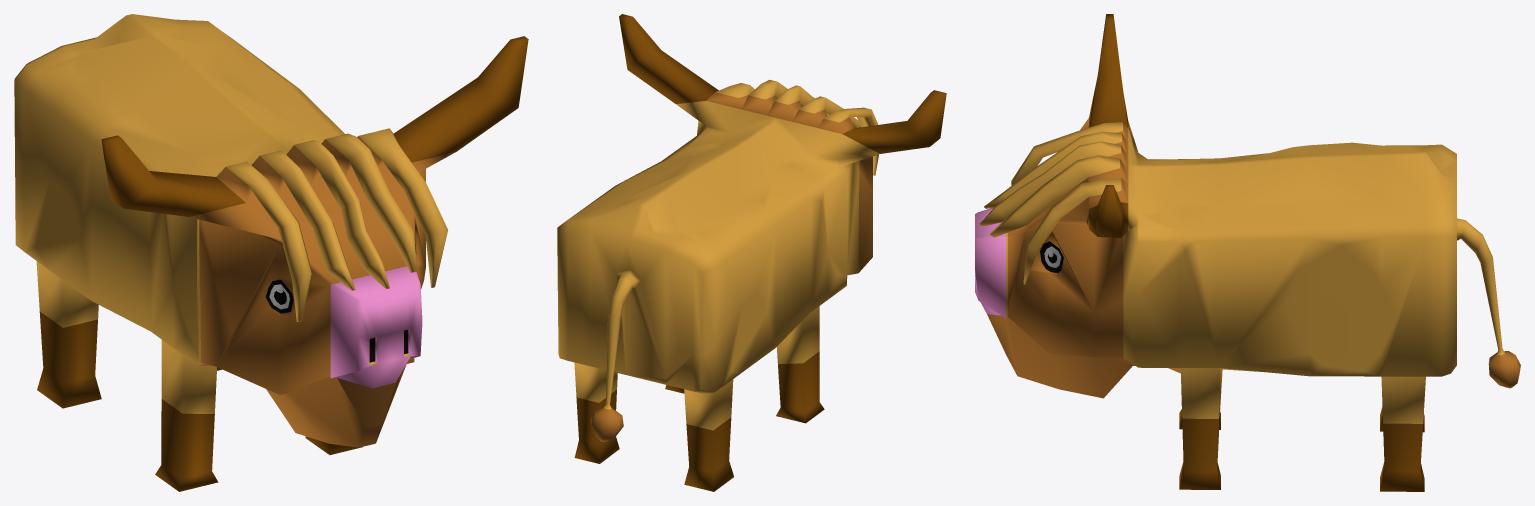
The model's file is HighlandCow.fbx.
3 views of the same model, side by side, from view 1: azimuth 30°, elevation 25°; view 2: azimuth 150°, elevation 25°; view 3: azimuth 270°, elevation 25° (orthographic). The views are drawn at different scales.
Visible parts, largest first — view 1: Cube; view 2: Cube; view 3: Cube.
Boxes of the visible parts, left/top/right/bottom form: Cube: left=14, top=14, right=528, bottom=491; Cube: left=557, top=14, right=946, bottom=491; Cube: left=975, top=14, right=1520, bottom=491.
Size of the model in its own units: 578 by 538 by 754.
